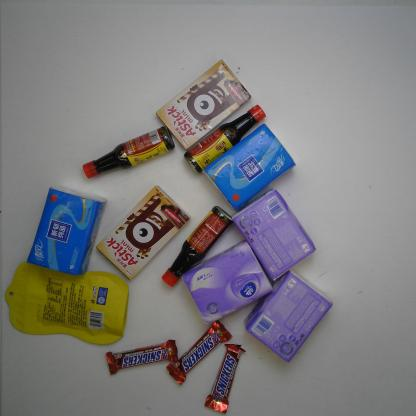Chocolate: (166, 319, 234, 386), (204, 342, 246, 414), (105, 338, 179, 376)
Dessert: (155, 58, 252, 152), (96, 184, 190, 280)
Dried Fruit: (4, 260, 130, 345)
Seasoner: (161, 203, 234, 288), (183, 104, 266, 175), (81, 126, 176, 180)
Tissue: (243, 267, 334, 364), (201, 122, 297, 212), (231, 187, 317, 282), (182, 239, 274, 326), (27, 186, 108, 278)
